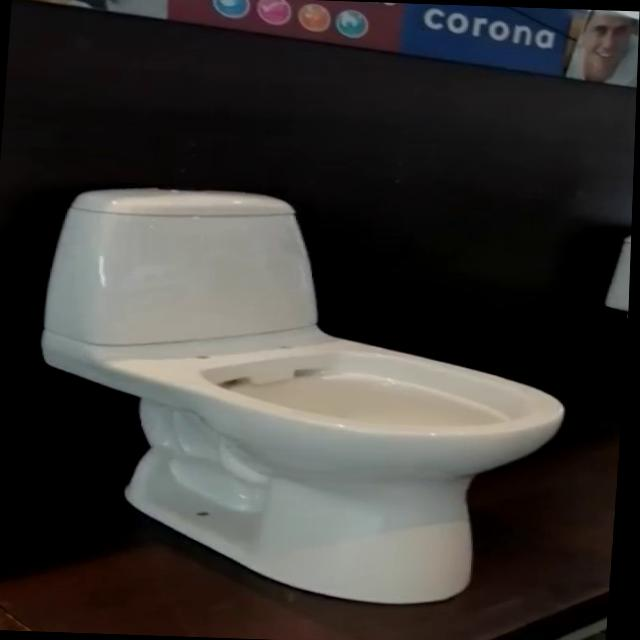toilet: (24, 182, 581, 609)
